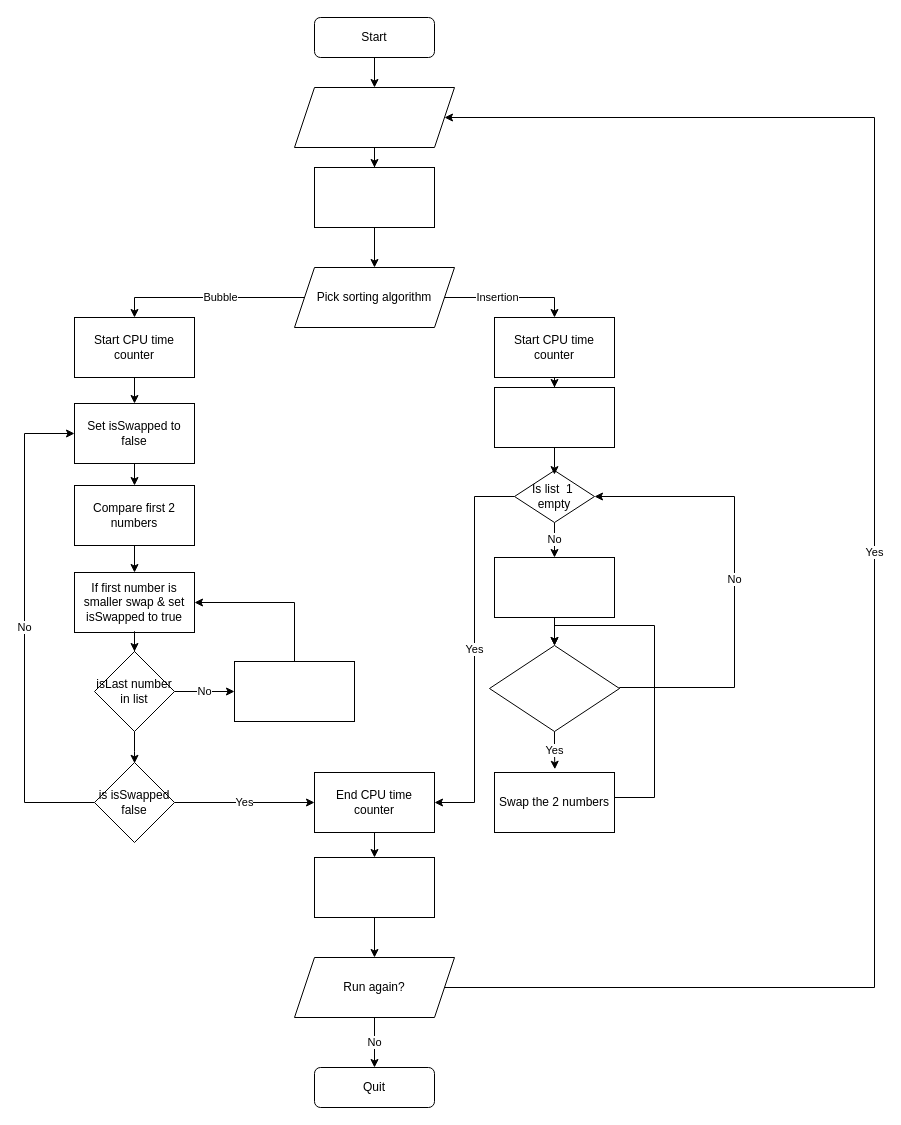
The diagram is 901 pixels wide and 1125 high, and some of its shapes have lost their labels. Here are the shapes that lost their labels. From the top down, the box of each, then its label:
(294, 86, 454, 148): How many items in list?
(314, 166, 434, 228): Randomly generate x items and place them in an array
(494, 386, 614, 448): Create a 2nd empty list
(494, 556, 614, 618): Move first number of array 1 into 2nd list
(234, 660, 354, 722): Compare next 2 numbers
(488, 644, 620, 732): Is bigger than the next number in the list?
(314, 856, 434, 918): Print CPU time taken
